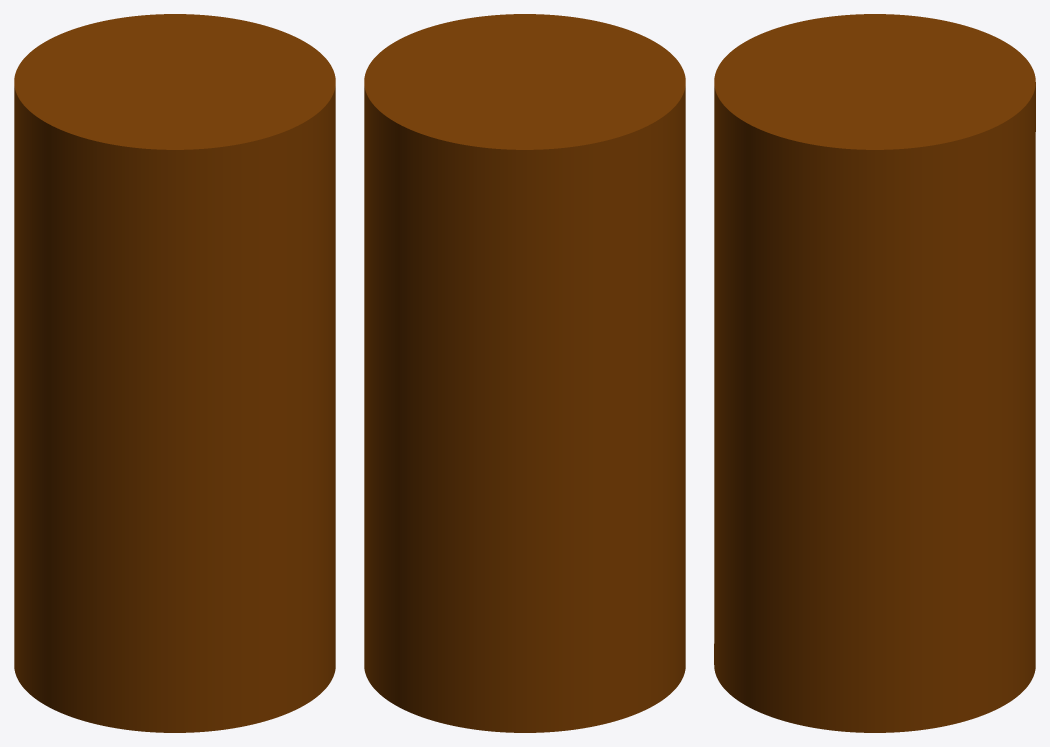
The model's file is Tree2Collider.fbx.
3 renders of one model, left to right at view 1: azimuth 30°, elevation 25°; view 2: azimuth 150°, elevation 25°; view 3: azimuth 270°, elevation 25°, orthographic.
Visible parts, largest first — view 1: Cylinder; view 2: Cylinder; view 3: Cylinder.
Boxes of the visible parts, <box> form: Cylinder: <box>14,14,335,732</box>; Cylinder: <box>364,14,685,732</box>; Cylinder: <box>714,14,1035,732</box>.
Bounding box in the file's own units: 320 × 640 × 320.
